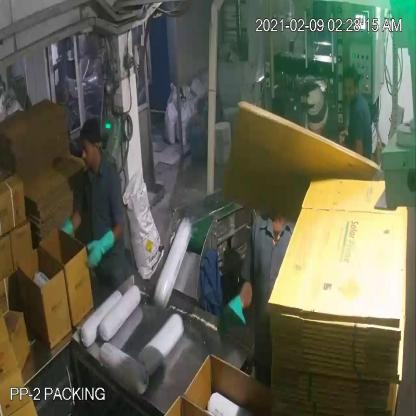glove: (214, 290, 250, 338), (86, 230, 116, 269)
